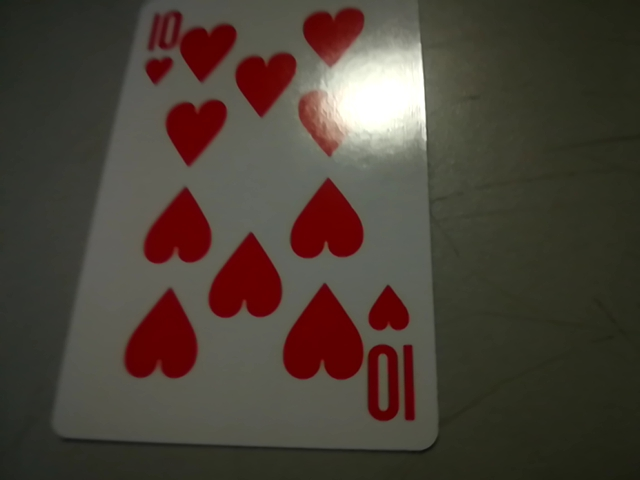hx 10: (355, 273, 433, 439)
